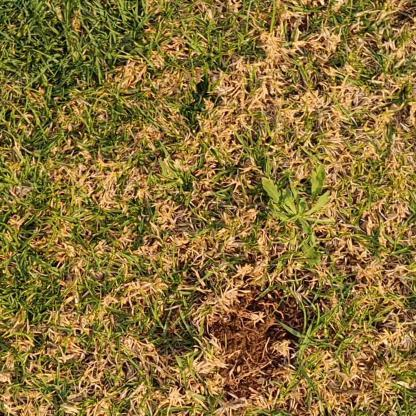Weeds: (263, 163, 331, 263)
